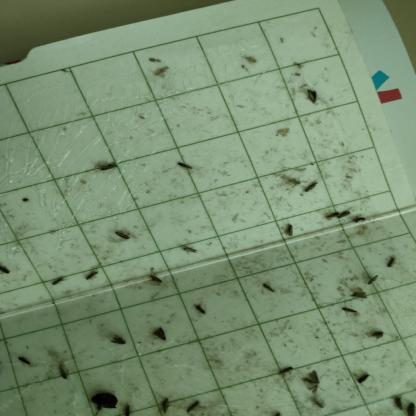prays_oleae: (302, 361, 331, 406), (101, 324, 132, 363), (264, 356, 296, 388), (169, 150, 200, 181), (188, 293, 211, 325), (148, 316, 170, 349), (93, 156, 125, 178), (251, 274, 282, 296), (109, 221, 134, 248), (145, 266, 167, 296), (298, 170, 320, 200), (82, 258, 104, 287), (181, 384, 203, 413), (368, 323, 389, 352), (350, 211, 370, 241), (50, 267, 71, 295), (304, 79, 321, 113), (181, 238, 200, 268), (352, 368, 377, 390), (337, 303, 361, 325), (347, 285, 369, 307), (153, 391, 173, 415), (361, 266, 380, 291), (384, 249, 399, 278), (14, 349, 32, 373), (336, 206, 353, 228), (284, 214, 297, 241), (393, 389, 407, 413), (56, 362, 71, 384), (319, 207, 339, 223), (0, 260, 12, 284)
